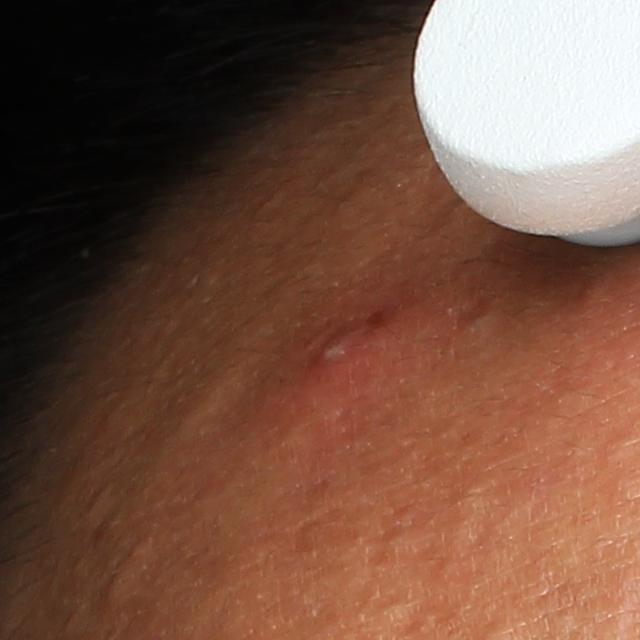comedo: (103, 571, 137, 602)
